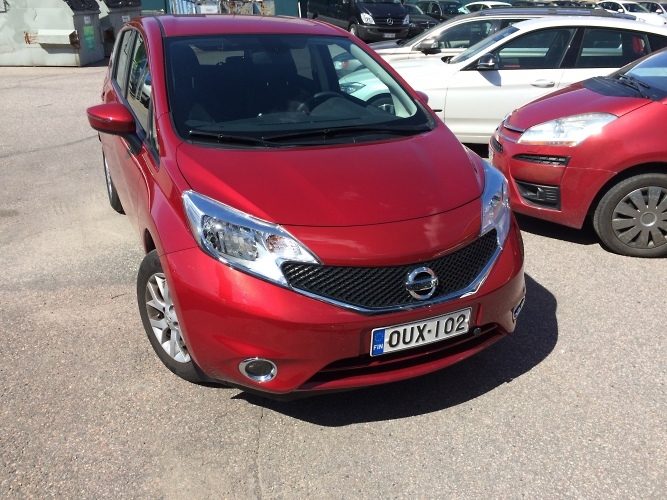license: (370, 306, 472, 358)
